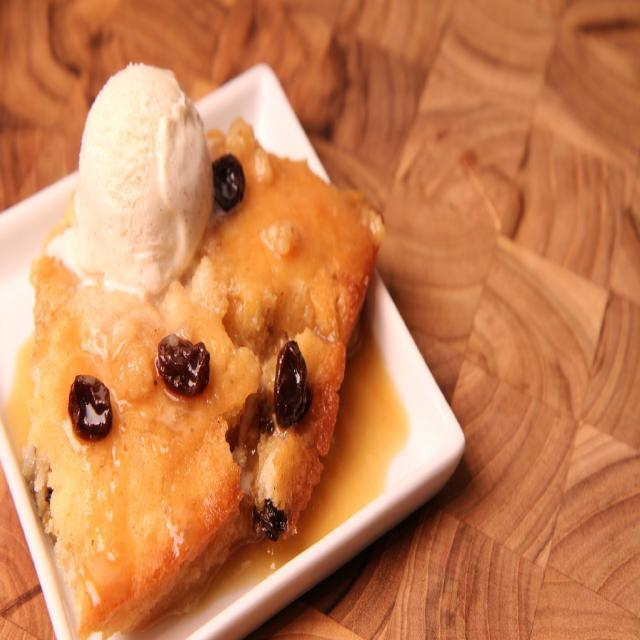Ice cream: (60, 64, 220, 294)
